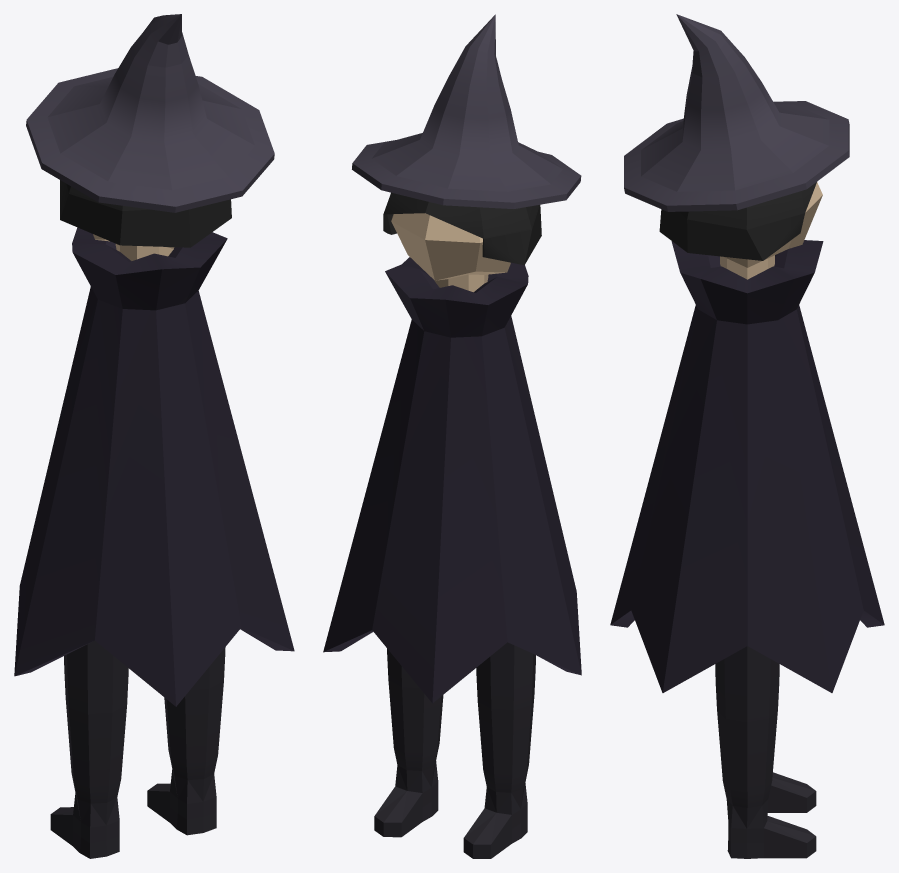
The model's file is mageEnemyTest.fbx.
3 renders of one model, left to right at view 1: azimuth 30°, elevation 25°; view 2: azimuth 150°, elevation 25°; view 3: azimuth 270°, elevation 25°, orthographic. The views are drawn at different scales.
Parts seen in each view (by area): view 1: pCone1, pCylinder3, pCylinder2, pCylinder1, polySurface2, polySurface1; view 2: pCone1, pCylinder3, pCylinder2, pCylinder1, polySurface1, polySurface2; view 3: pCone1, pCylinder3, pCylinder1, polySurface2, pCylinder2, polySurface1.
Part boxes in pixels (<box>): pCone1: <box>14,227,294,706</box>; pCylinder3: <box>26,14,274,212</box>; pCylinder2: <box>50,640,128,858</box>; pCylinder1: <box>147,647,225,835</box>; polySurface2: <box>60,180,231,247</box>; polySurface1: <box>93,234,174,260</box>; pCone1: <box>323,257,581,703</box>; pCylinder3: <box>352,14,581,208</box>; pCylinder2: <box>463,642,535,858</box>; pCylinder1: <box>374,648,443,837</box>; polySurface1: <box>391,213,510,292</box>; polySurface2: <box>383,192,541,265</box>; pCone1: <box>610,240,884,692</box>; pCylinder3: <box>624,14,849,211</box>; pCylinder1: <box>715,646,816,858</box>; polySurface2: <box>659,182,816,260</box>; pCylinder2: <box>767,772,816,812</box>; polySurface1: <box>720,182,822,279</box>.
Size of the model in its own units: 7.65 by 25.6 by 7.82.
